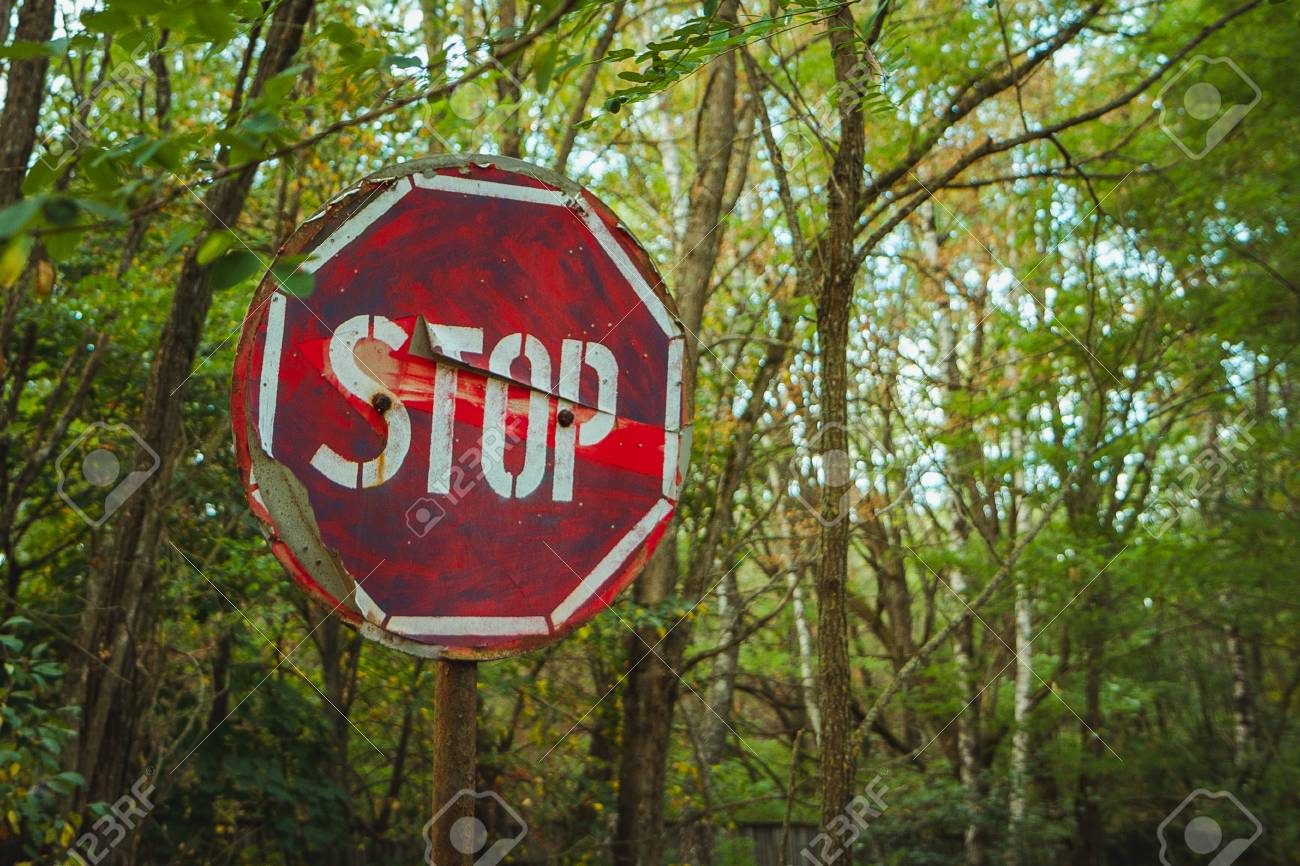stop: (211, 146, 734, 669)
